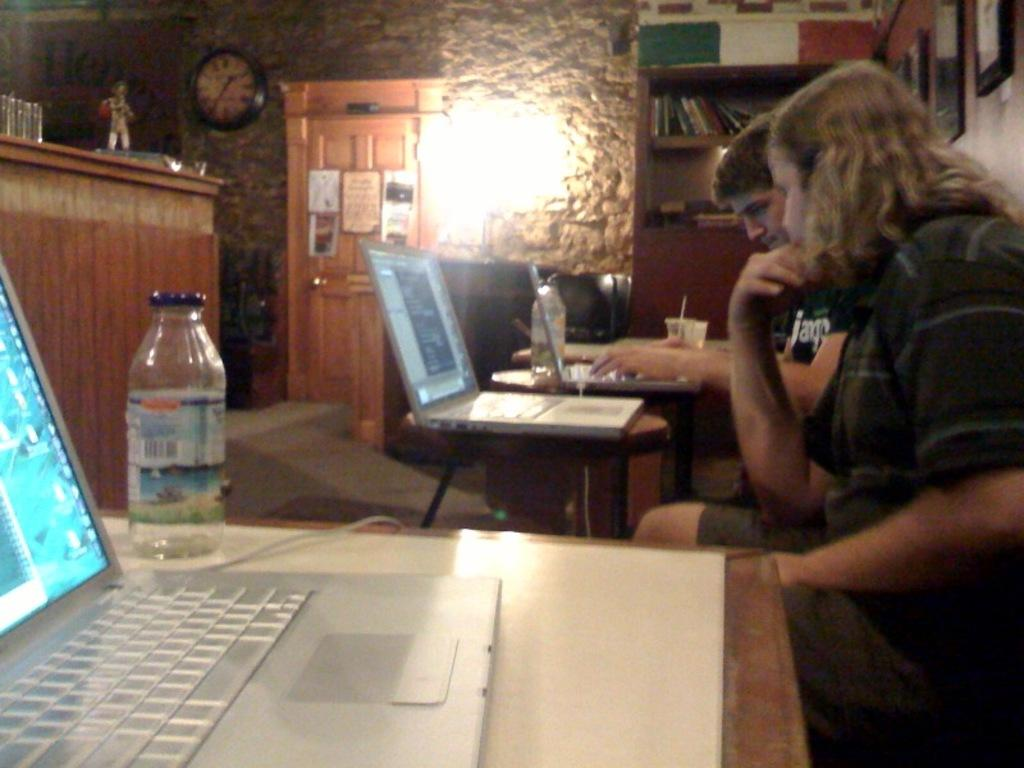Laptop: (3, 259, 504, 767), (360, 229, 660, 521), (530, 264, 699, 396)
